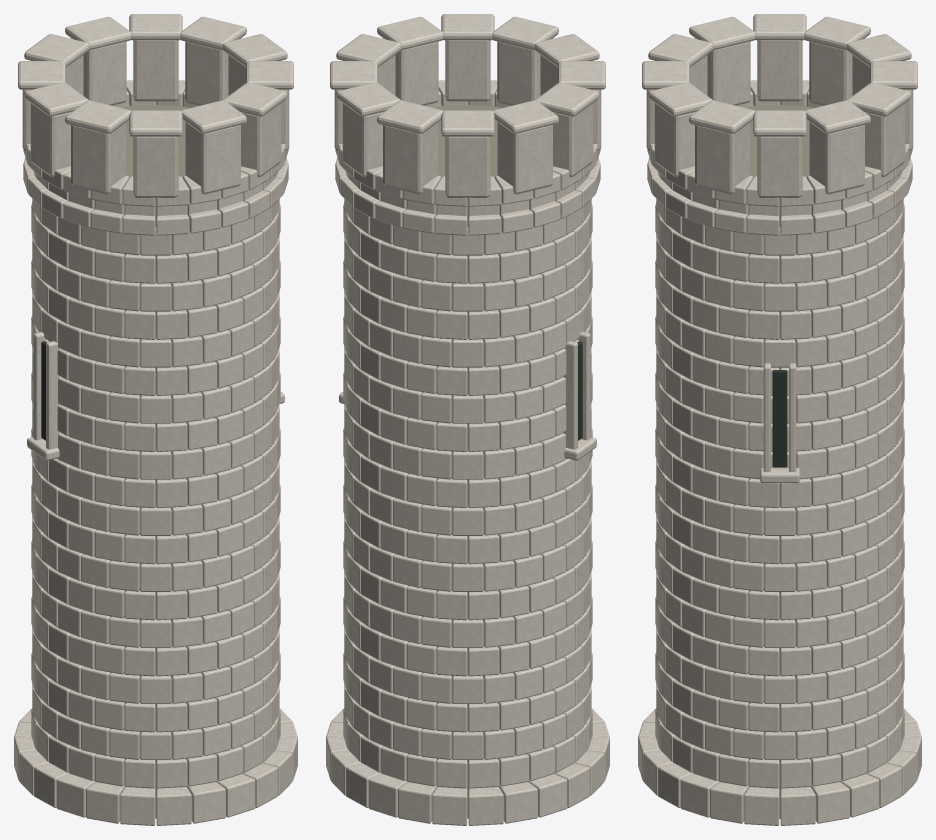
The model's file is tower_curtain.glb.
The picture shows the model from 3 angles, left to right: view 1: azimuth 30°, elevation 25°; view 2: azimuth 150°, elevation 25°; view 3: azimuth 270°, elevation 25°; orthographic projection.
Parts seen in each view (by area): view 1: Dressed curved tower blocks, Tower battlements, Tower coping stones, Tower footing, Tower cornice bands, Round tower core, Arrow slit depth; view 2: Dressed curved tower blocks, Tower battlements, Tower coping stones, Tower footing, Tower cornice bands, Round tower core, Arrow slit depth; view 3: Dressed curved tower blocks, Tower battlements, Tower coping stones, Tower footing, Tower cornice bands, Round tower core, Arrow slit depth, Tower arrow slit, Arrow slit sill.
Part boxes in pixels (x1,y1,x2,y2): Dressed curved tower blocks: [31, 171, 280, 788]; Tower battlements: [22, 38, 289, 197]; Tower coping stones: [18, 14, 293, 136]; Tower footing: [14, 708, 297, 825]; Tower cornice bands: [23, 80, 288, 235]; Round tower core: [83, 101, 215, 818]; Arrow slit depth: [33, 332, 59, 449]; Dressed curved tower blocks: [343, 171, 592, 788]; Tower battlements: [334, 38, 601, 197]; Tower coping stones: [330, 14, 605, 136]; Tower footing: [326, 708, 609, 825]; Tower cornice bands: [335, 80, 600, 235]; Round tower core: [408, 101, 540, 818]; Arrow slit depth: [564, 332, 590, 449]; Dressed curved tower blocks: [655, 171, 904, 788]; Tower battlements: [646, 38, 913, 197]; Tower coping stones: [642, 14, 917, 136]; Tower footing: [638, 708, 921, 825]; Tower cornice bands: [647, 80, 912, 235]; Round tower core: [720, 101, 839, 818]; Arrow slit depth: [763, 363, 796, 471]; Tower arrow slit: [772, 370, 787, 467]; Arrow slit sill: [760, 467, 799, 482].
Bounding box in the file's own units: 2.13 × 5.78 × 2.13.
5 materials, 3 textured.
